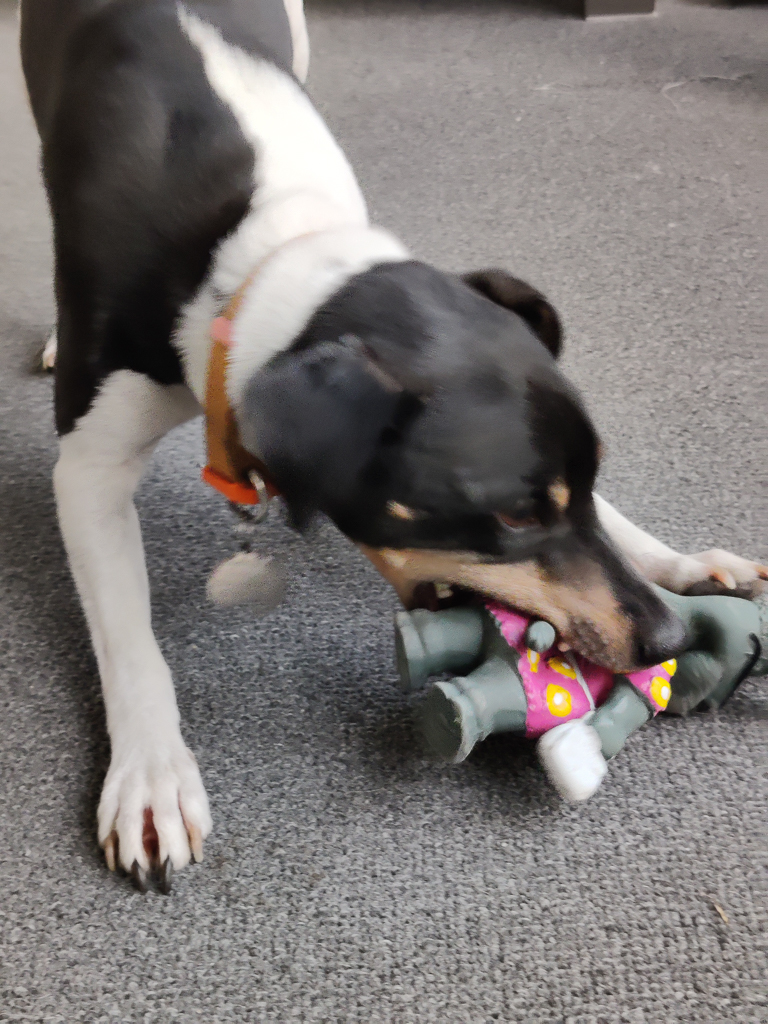Dog: (0, 0, 768, 908)
Humanoid: (354, 546, 768, 816)
